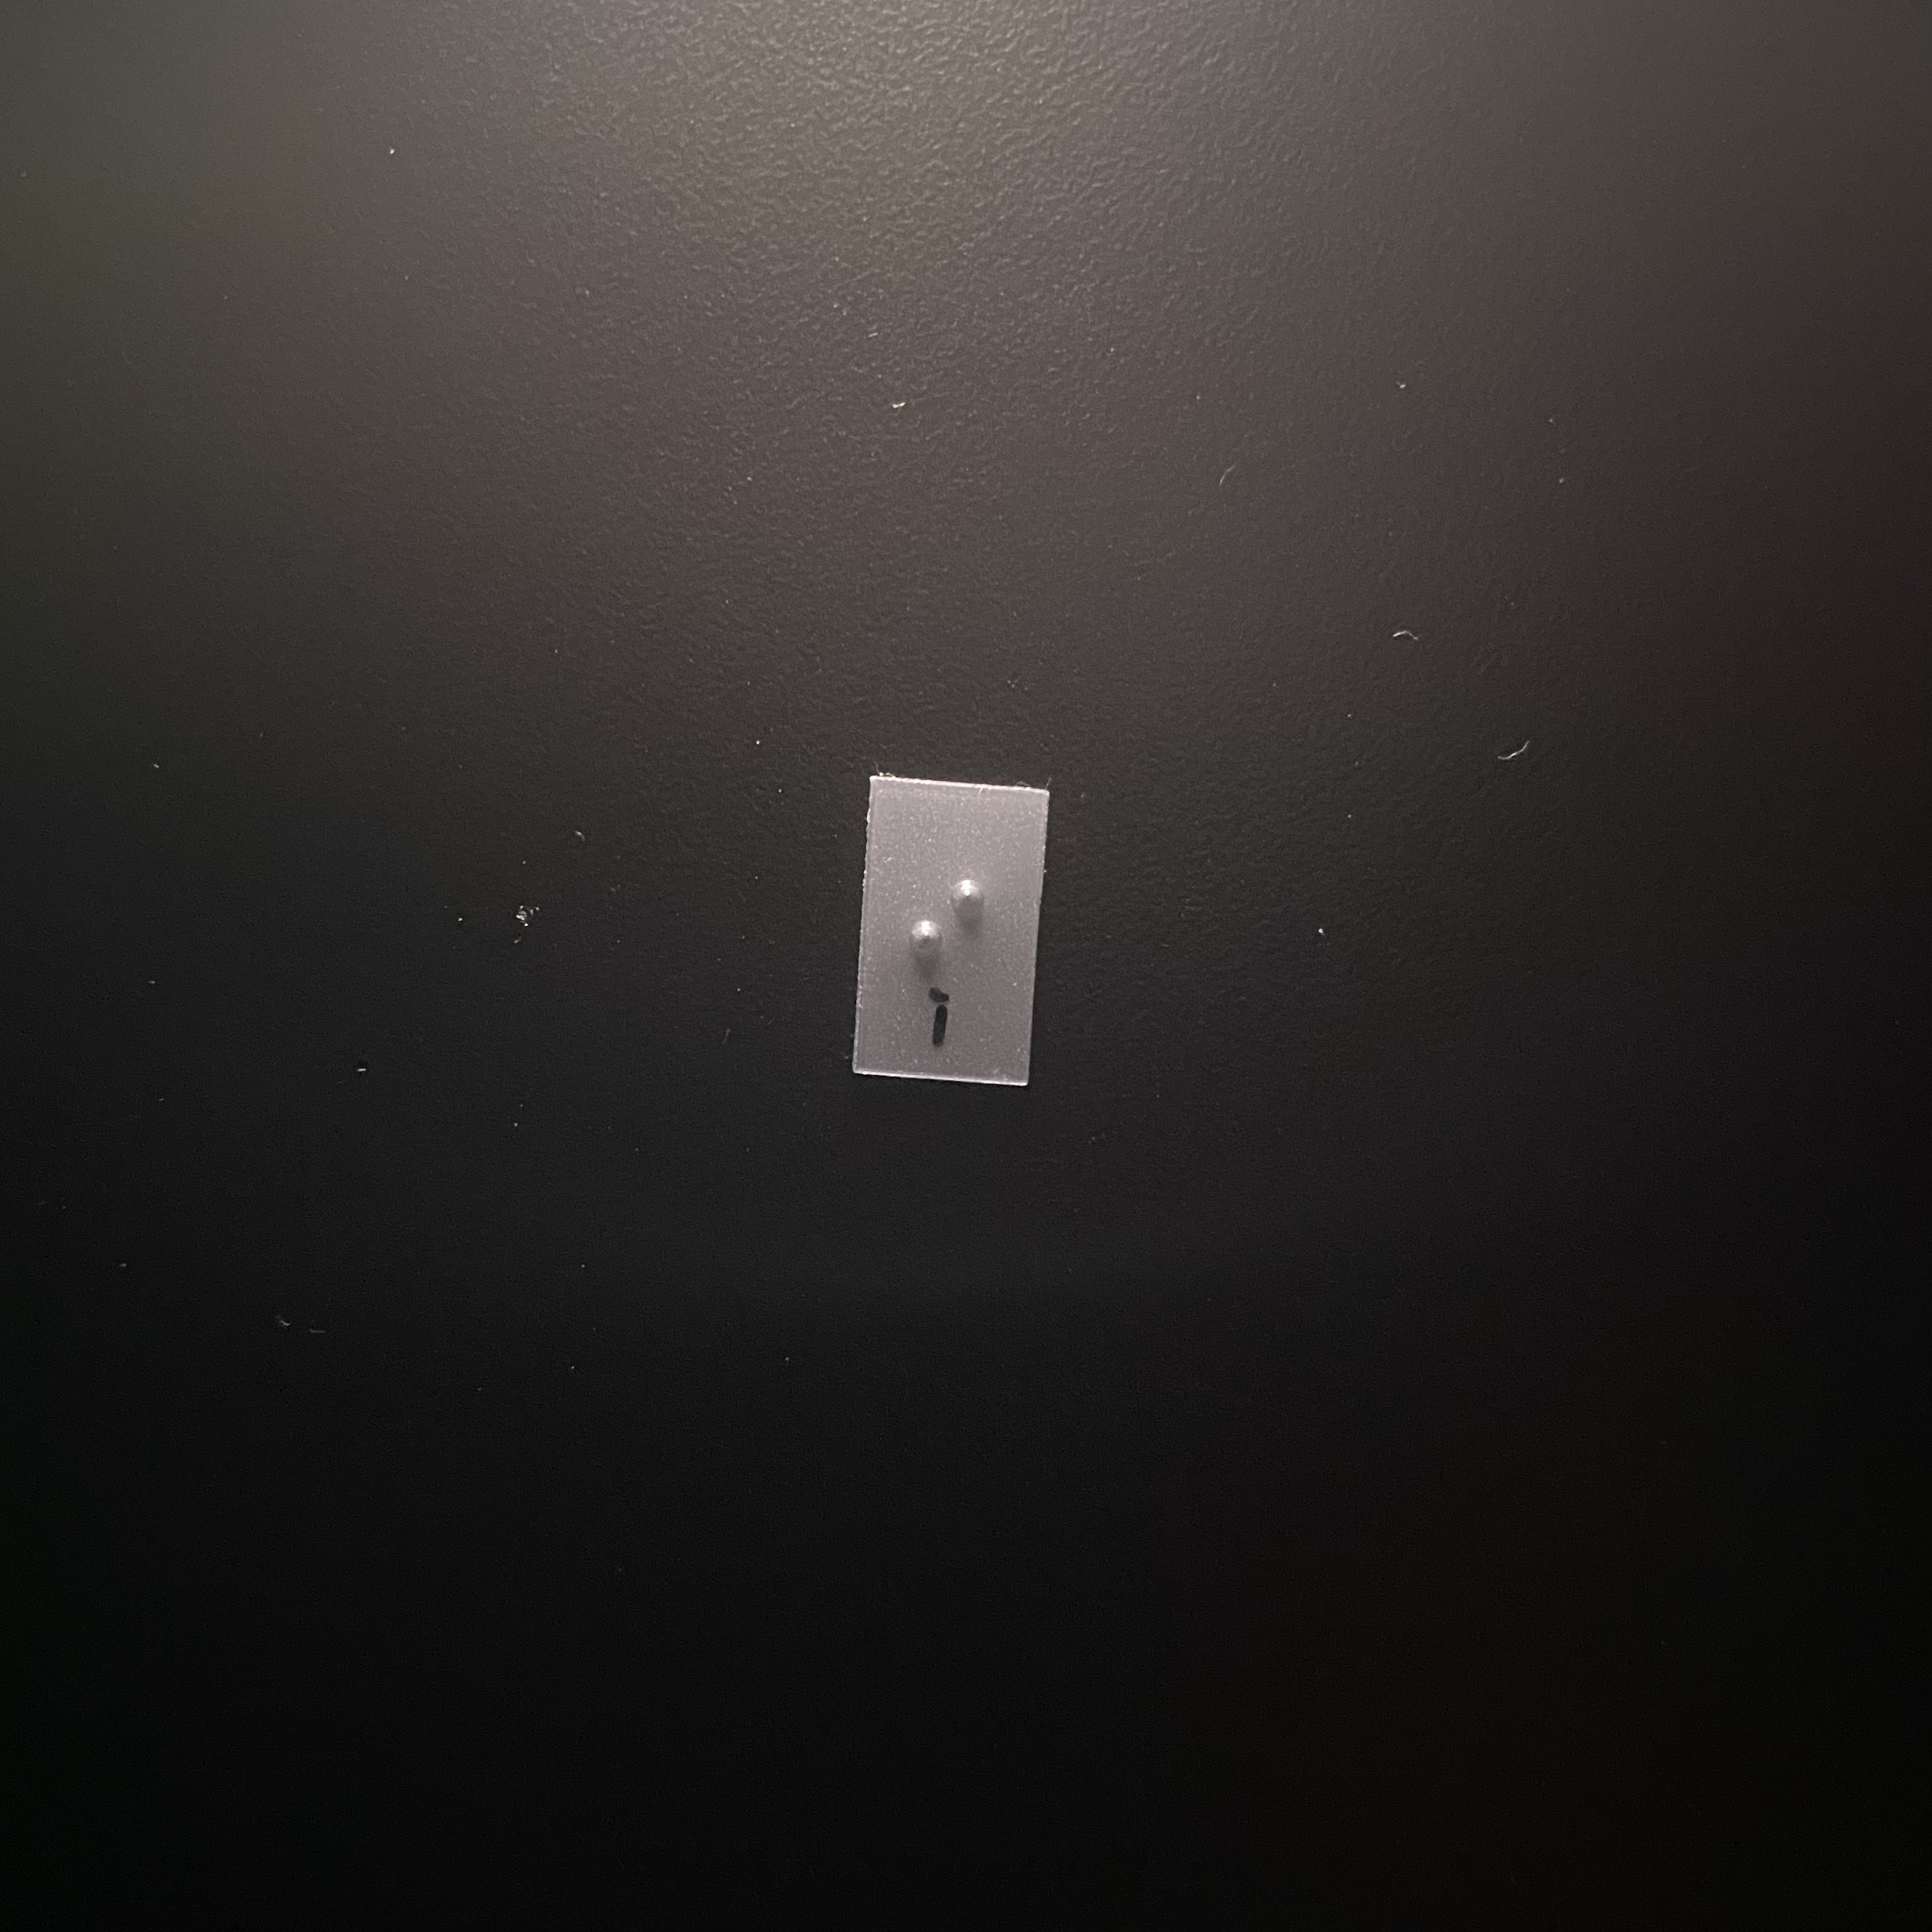i: (895, 856, 999, 1017)
